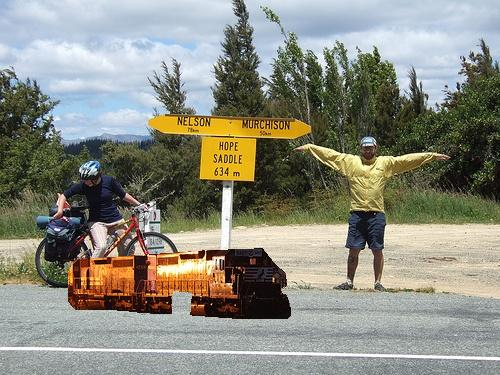tampered: (69, 249, 291, 319)
